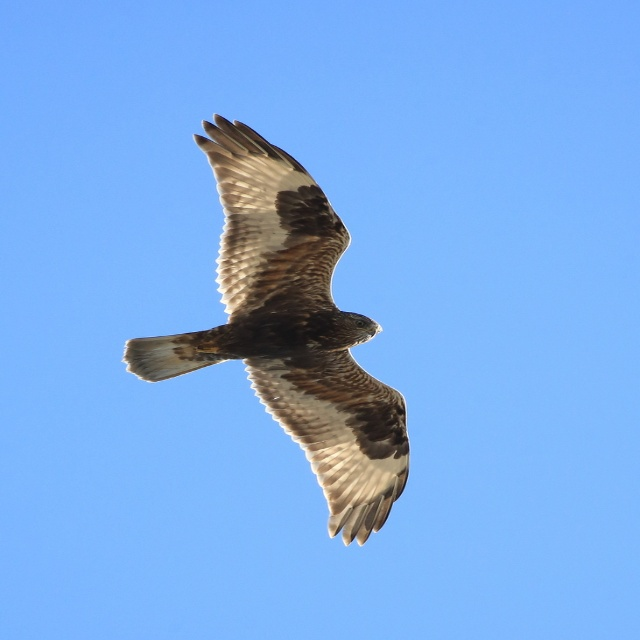Eagle: (116, 110, 415, 544)
